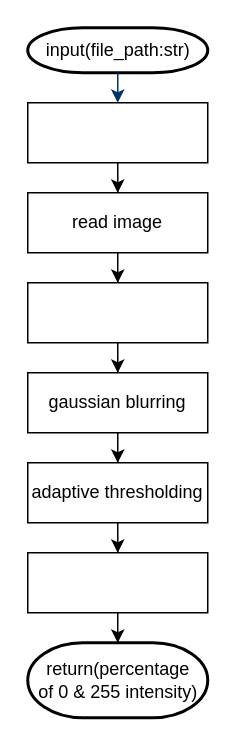
This 234x744 diagram has some shape labels left out. Each missing label, with the centre of its shape:
acquire filename from file path: pixel 117 132
calculate percentage of 0 & 255 intensity: pixel 117 582
convert BGR to grayscale image: pixel 117 312
